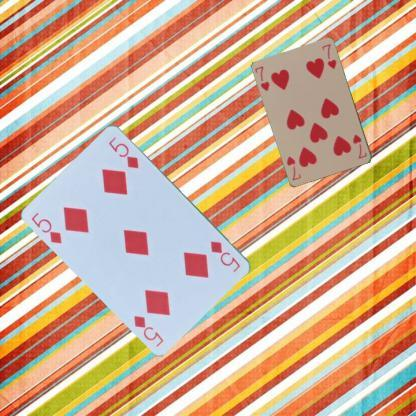5d: (208, 238, 242, 274), (29, 210, 63, 245)
7h: (252, 64, 271, 92), (350, 132, 368, 160)
